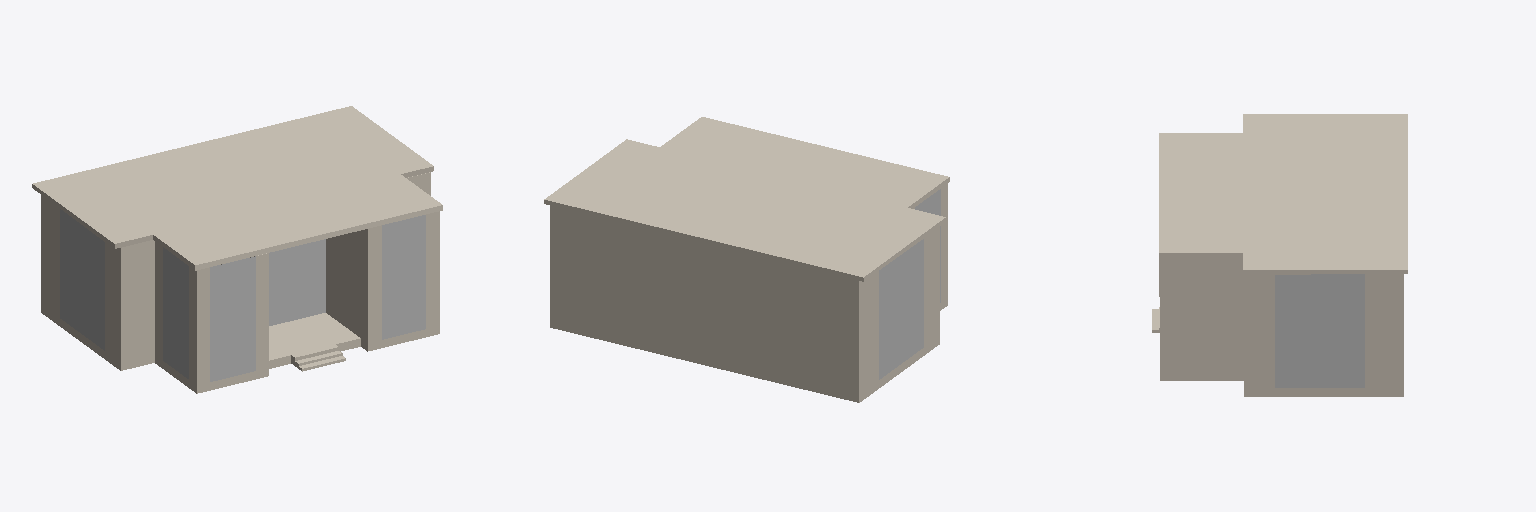
File: demo2.obj
3 views of the same model, side by side, from view 1: azimuth 30°, elevation 25°; view 2: azimuth 150°, elevation 25°; view 3: azimuth 270°, elevation 25° (orthographic).
Parts seen in each view (by area): view 1: Mesh1 Model; view 2: Mesh1 Model; view 3: Mesh1 Model.
Boxes of the visible parts, <box> form: Mesh1 Model: <box>32,106,442,393</box>; Mesh1 Model: <box>544,117,949,402</box>; Mesh1 Model: <box>1152,114,1407,396</box>.
Size of the model in its own units: 147 by 56.71 by 102.